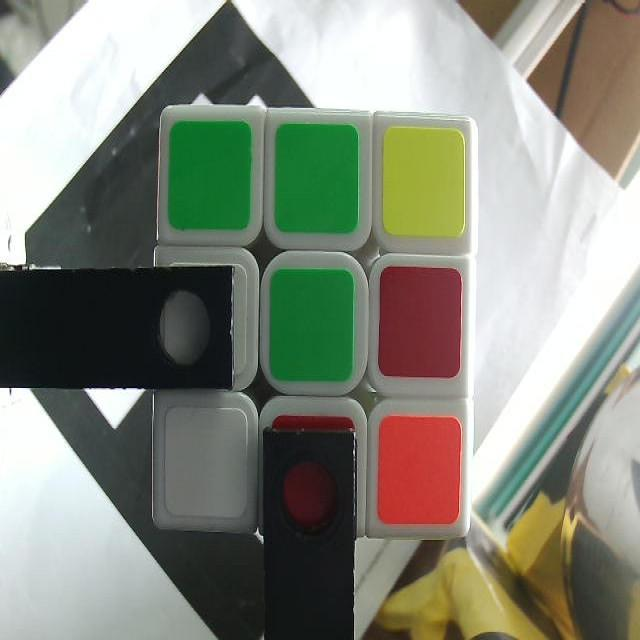g: (276, 123, 358, 232), (271, 273, 351, 378), (172, 125, 251, 231)
o: (378, 419, 458, 525)
r: (271, 417, 354, 534), (383, 268, 458, 380)
w: (169, 264, 245, 368), (170, 412, 244, 514)
y: (384, 127, 464, 236)
